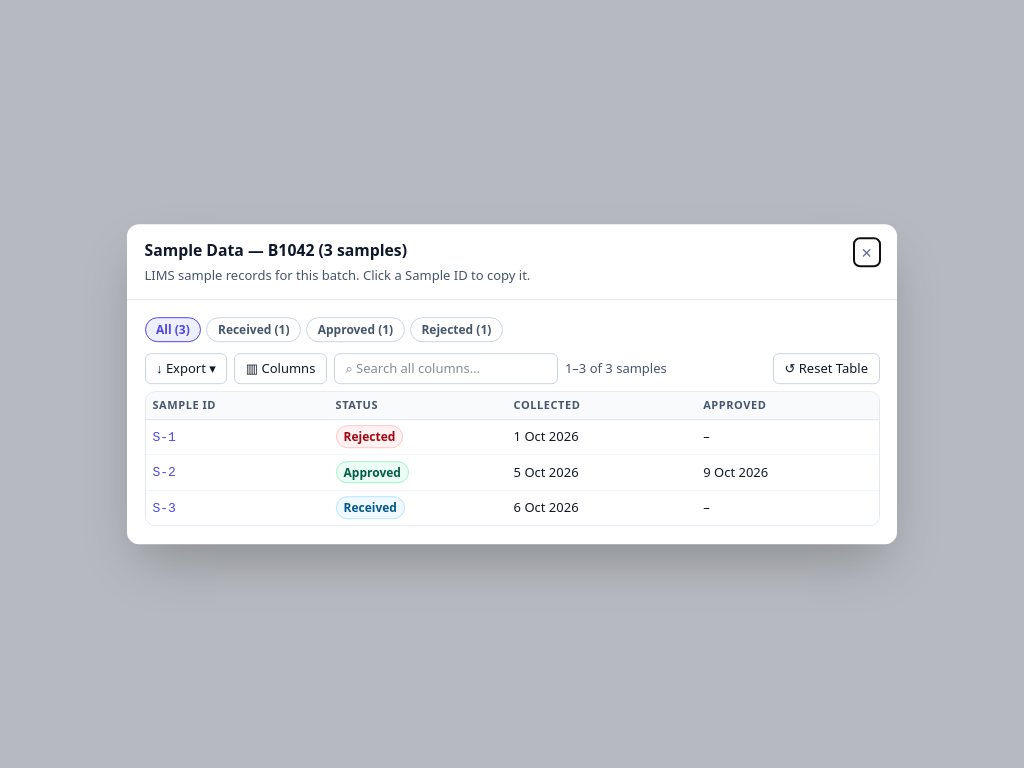
Test: F19-AC-05: with several statuses the pills count each, Rejected appears, and a pill filters the table
The width and height of the screenshot is (1024, 768).
Check: the button "All (3)" is shown, box left=144, top=317, right=201, bottom=342
Check: the button "Received (1)" is shown, box left=206, top=317, right=301, bottom=342
Click the button "Approved (1)": (355, 330) left=306, top=317, right=405, bottom=342
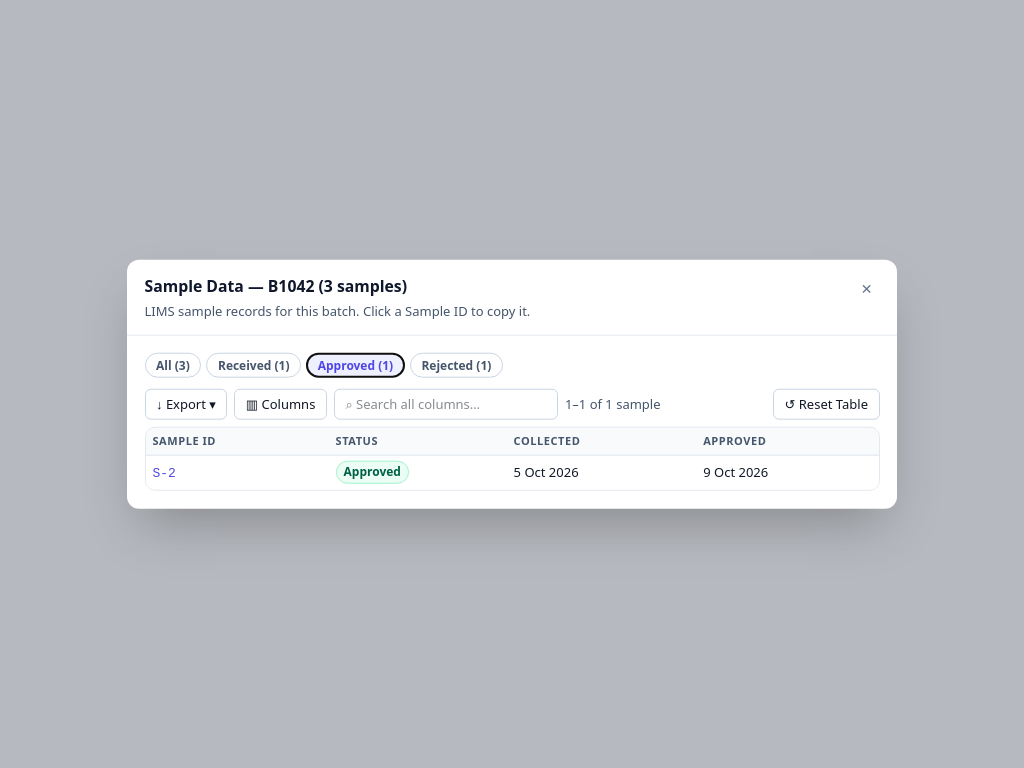
Check: the row with test id "window-row" shows "S-2", box left=152, top=463, right=176, bottom=483
Check: the number of rows with test id "window-row" is 1, box left=146, top=455, right=878, bottom=490
